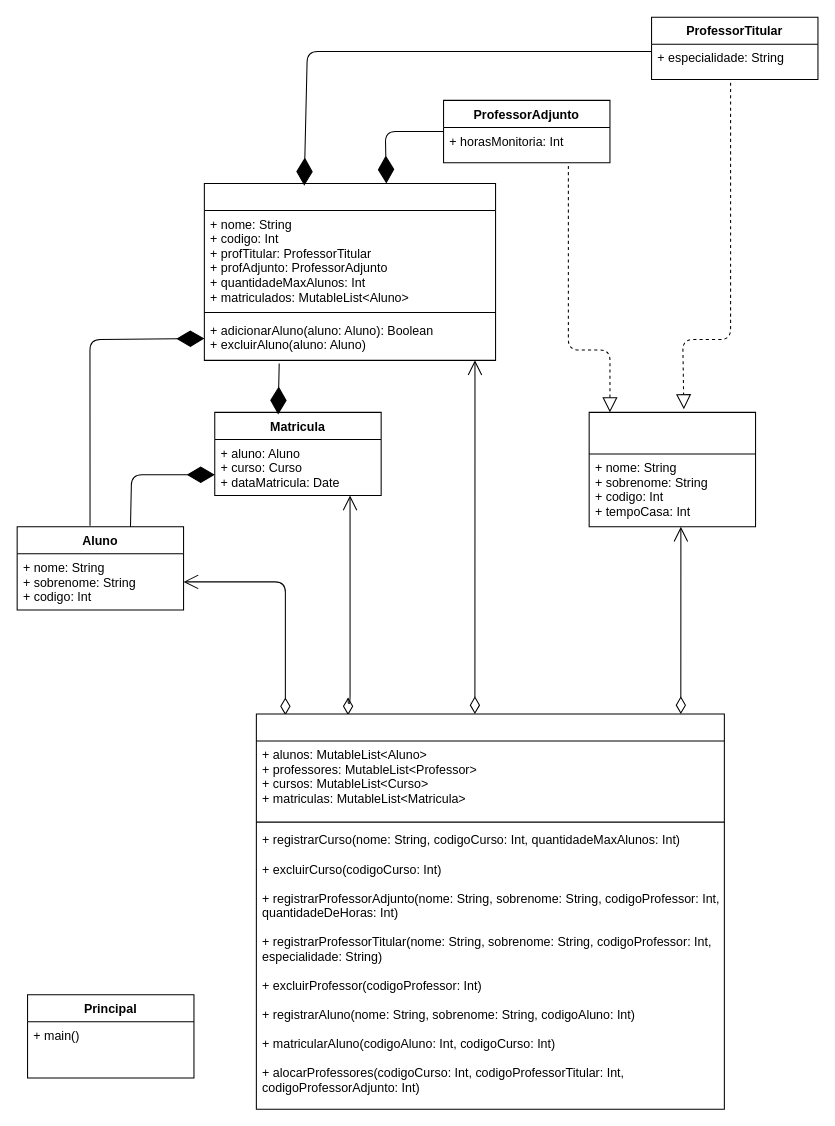
Some shapes in this 835 by 1126 pixel diagram are drawn without their labels. The shapes that lost their labels are listed below. From the top down, each one's box as (x1, y1, x2, y2) in pixels, then its label:
(203, 183, 496, 360): Curso
(588, 411, 756, 527): «interface» Professor
(255, 713, 724, 1109): DigitalHouseManager
